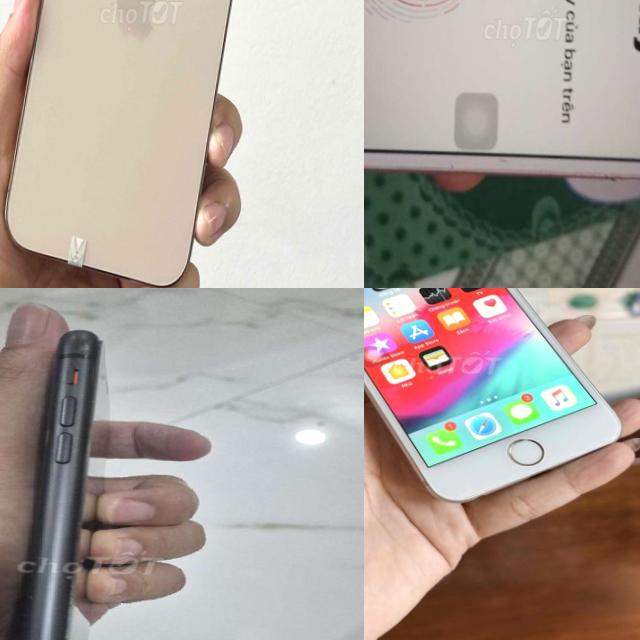gen_11: (0, 323, 149, 640)
gen_12_13: (2, 0, 264, 284)
gen_6: (364, 288, 640, 498), (364, 0, 640, 195)
scratch: (12, 574, 47, 638), (40, 417, 62, 452)
